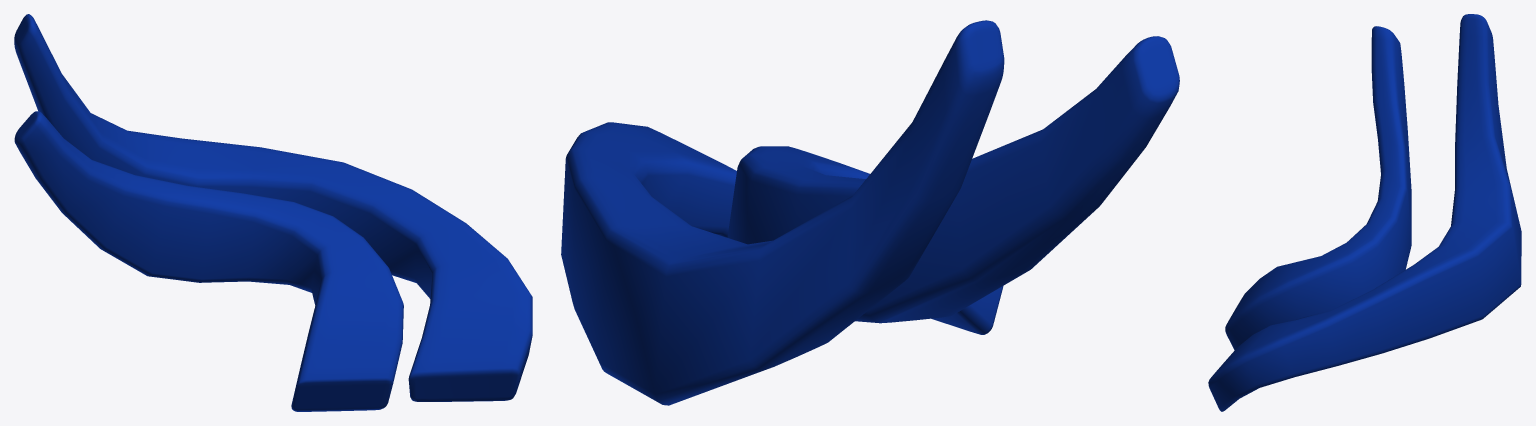
The model's file is PlantSpace_MESH.FBX.
3 renders of one model, left to right at view 1: azimuth 30°, elevation 25°; view 2: azimuth 150°, elevation 25°; view 3: azimuth 270°, elevation 25°, orthographic. The views are drawn at different scales.
Visible parts, largest first — view 1: Plant_low; view 2: Plant_low; view 3: Plant_low.
Part boxes in pixels (x1=…): Plant_low: x1=14, y1=14, x2=532, y2=411; Plant_low: x1=561, y1=20, x2=1179, y2=405; Plant_low: x1=1208, y1=14, x2=1521, y2=411.
Bounding box in the file's own units: 151 × 116 × 120.
